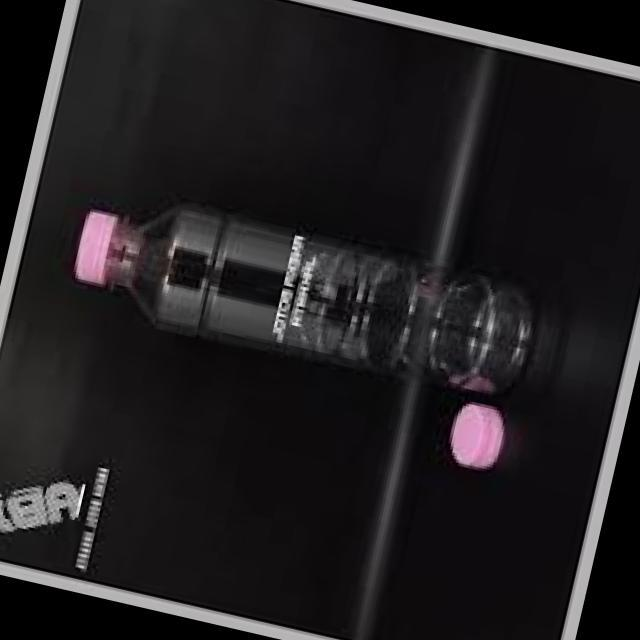good: (40, 149, 559, 452)
